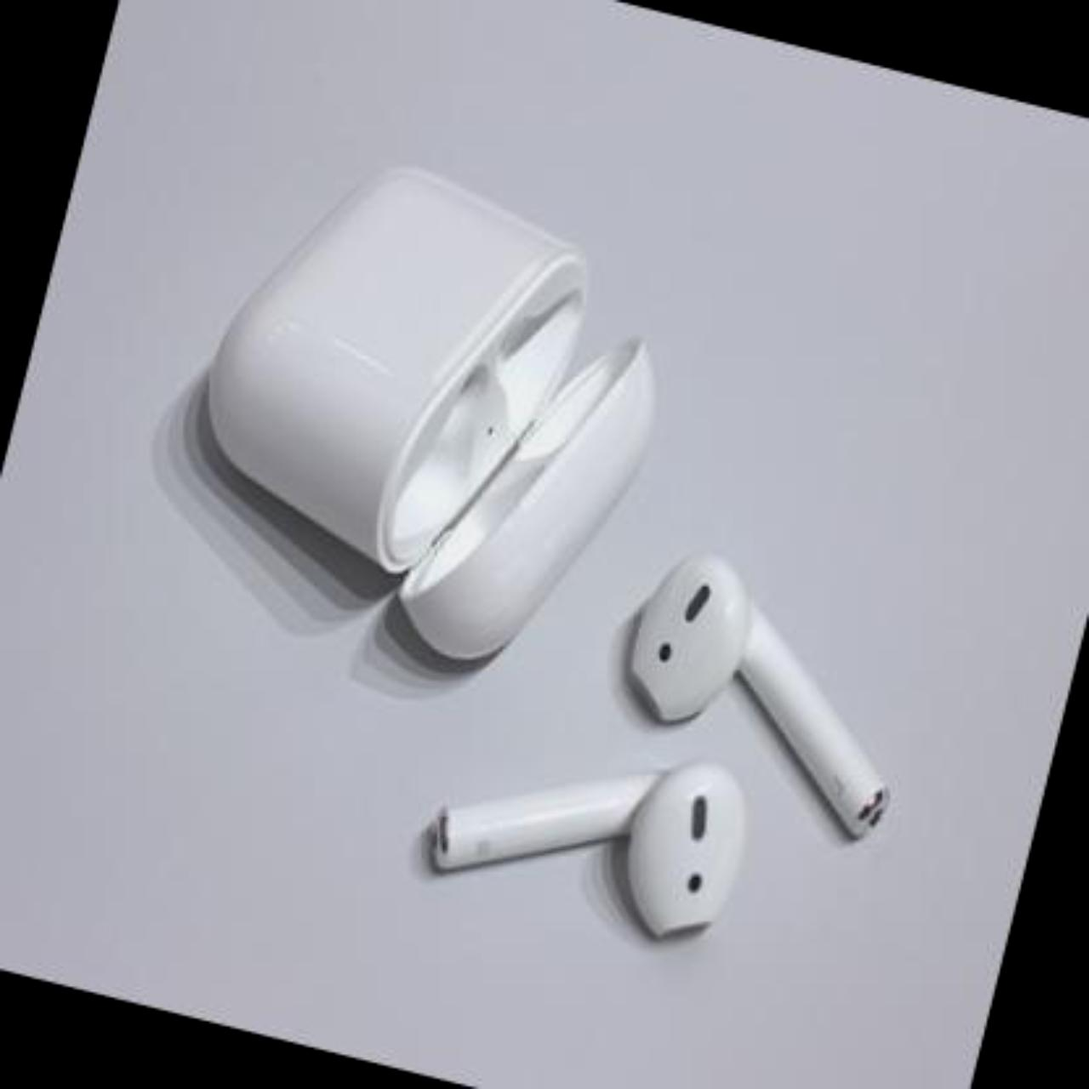Airpods_Units: (547, 526, 955, 861), (411, 699, 764, 963)
